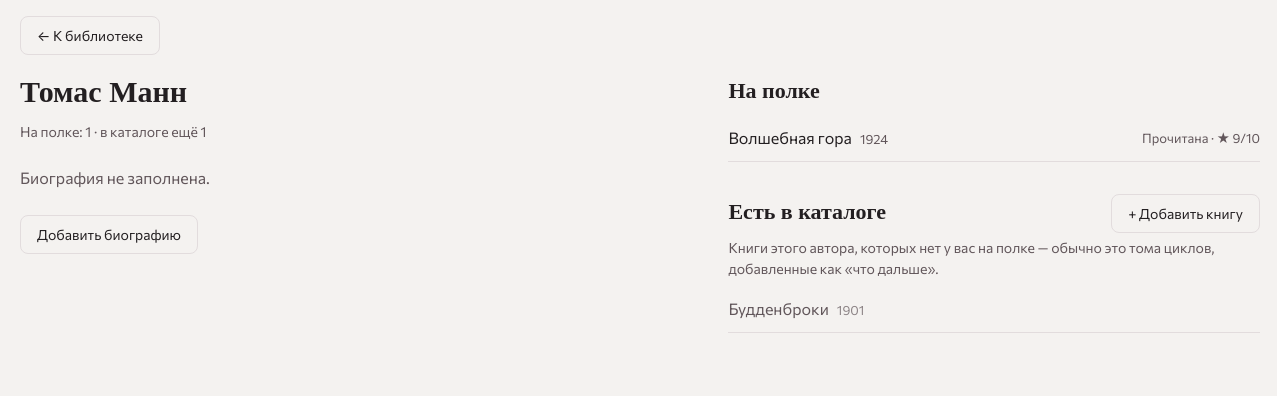
Test: отмена возвращает прежний текст
Expected: the heading "Томас Манн" is shown, x1=20 y1=70 x2=187 y2=116
Click the button "Добавить биографию" at (109, 234), box x1=20 y1=215 x2=198 y2=254
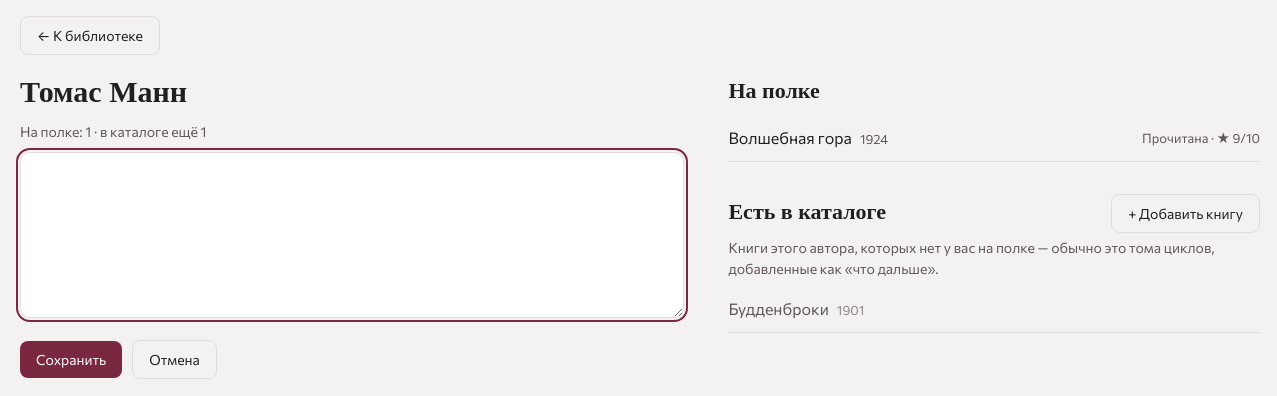
Type "Черновик" into the text box named "Биография автора" at (352, 235), box x1=20 y1=152 x2=684 y2=318
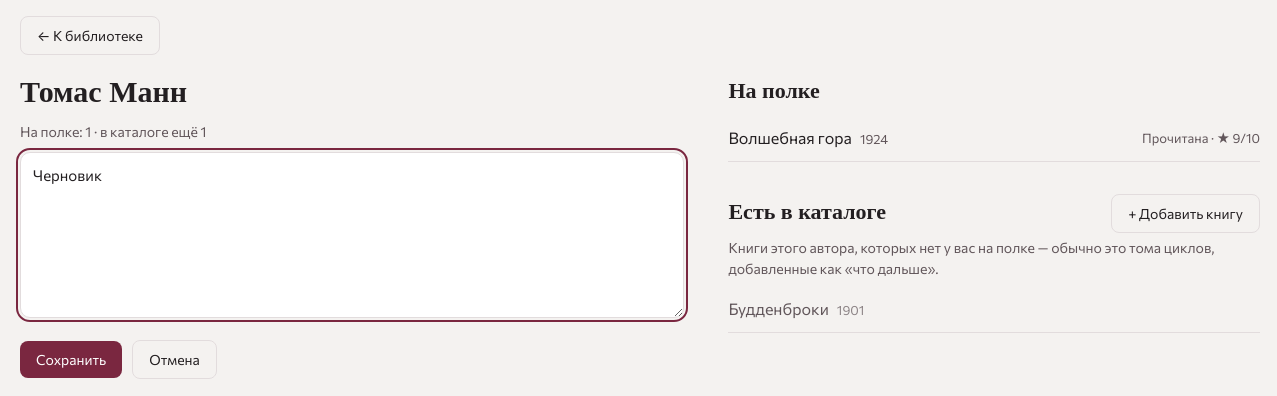
Click the button "Отмена" at (175, 360), box x1=132 y1=340 x2=217 y2=379
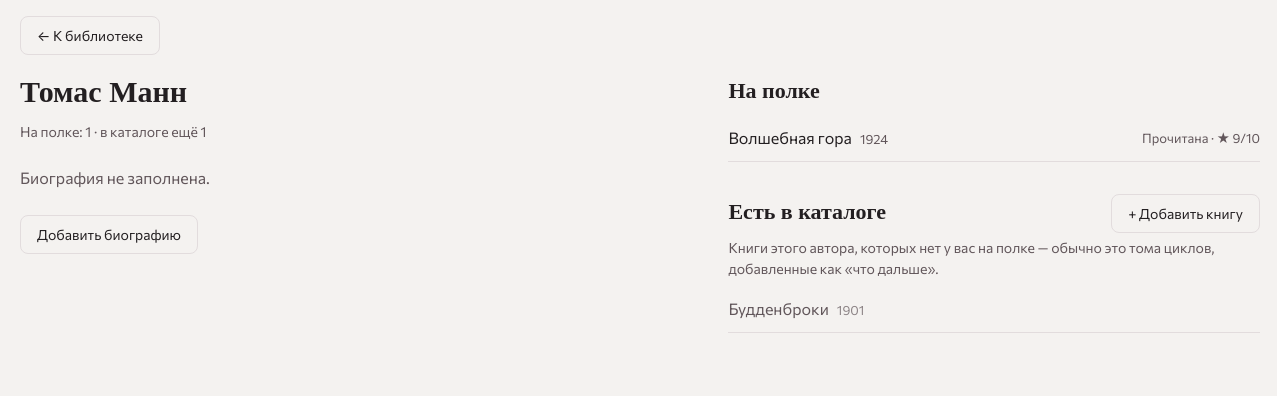
Now the text "Биография не заполнена." is shown, box x1=20 y1=168 x2=210 y2=187
